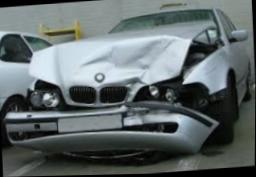Bonnet: (29, 19, 224, 105)
Bumper: (5, 103, 222, 154)
Light: (134, 85, 183, 106)
